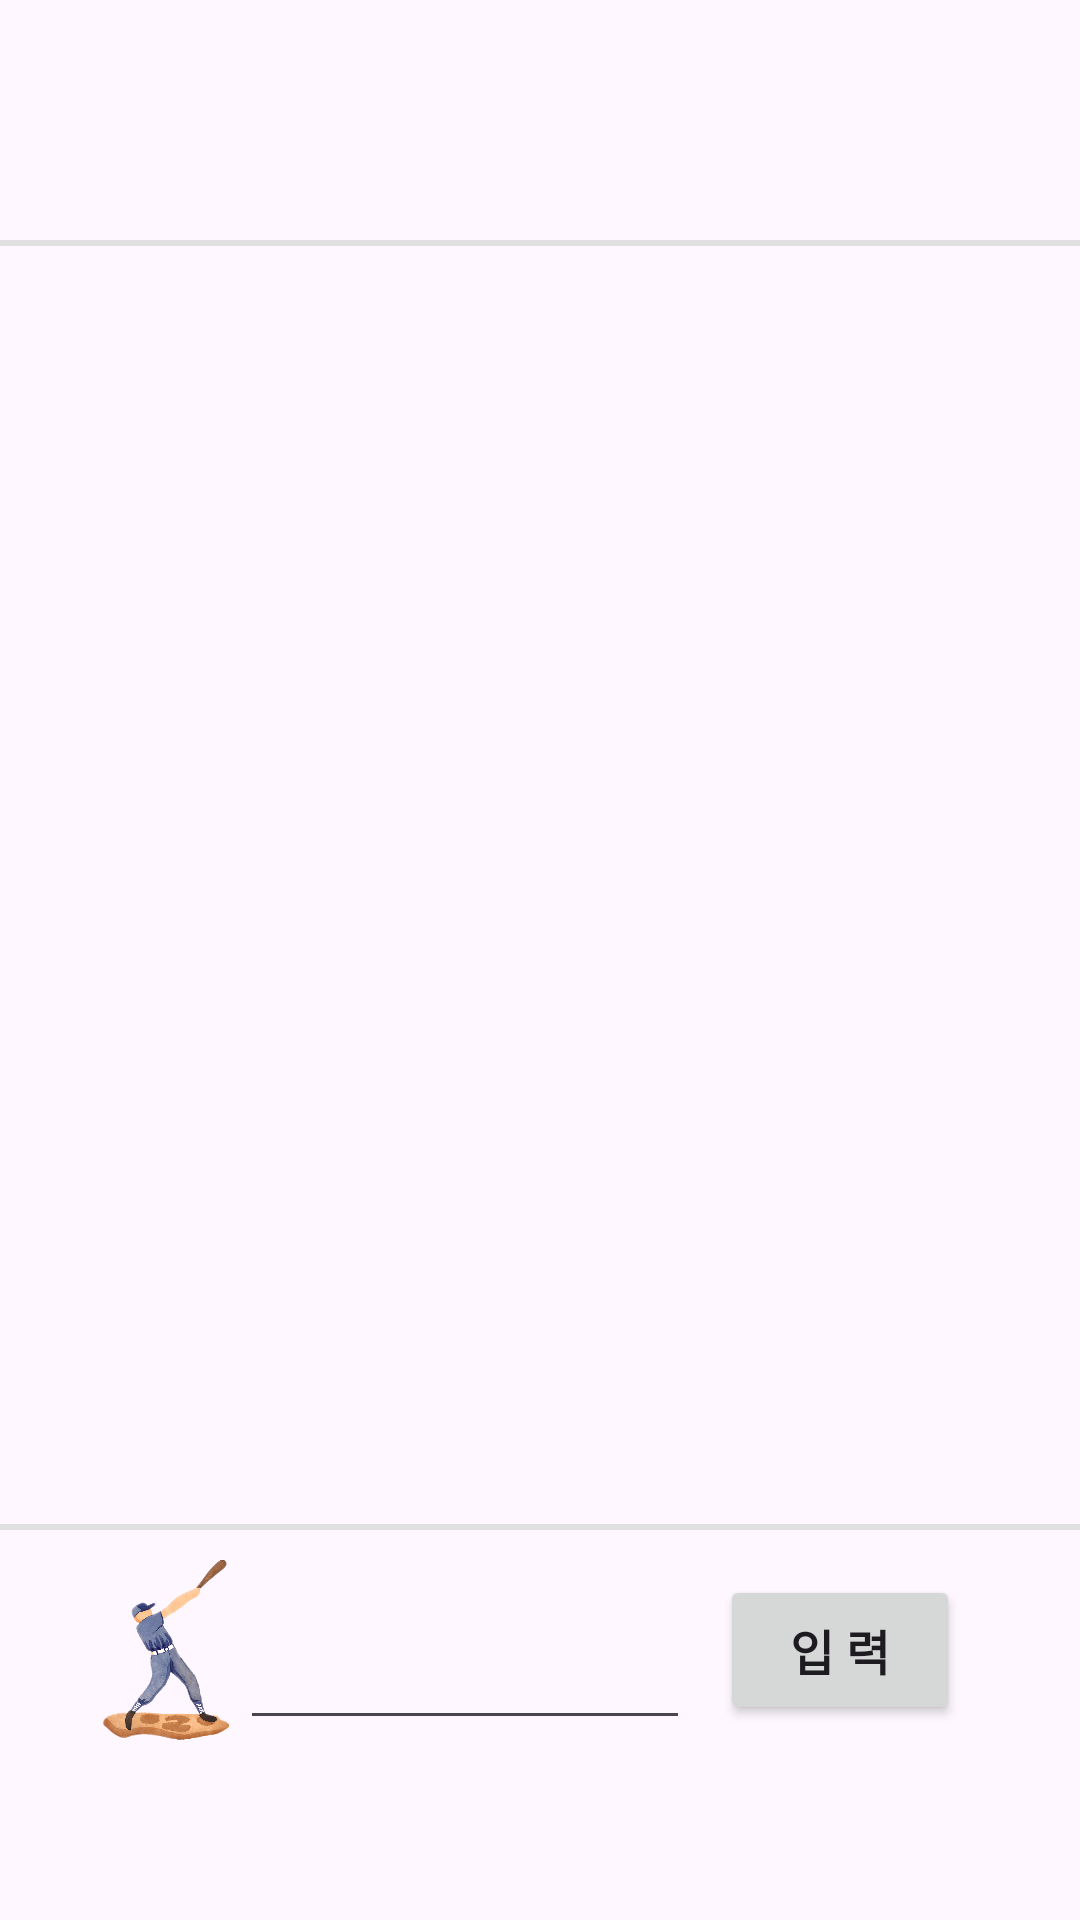

Where to tap for icons on this 1080x1920 app screen, as [x,y]:
player: [166,1650]
